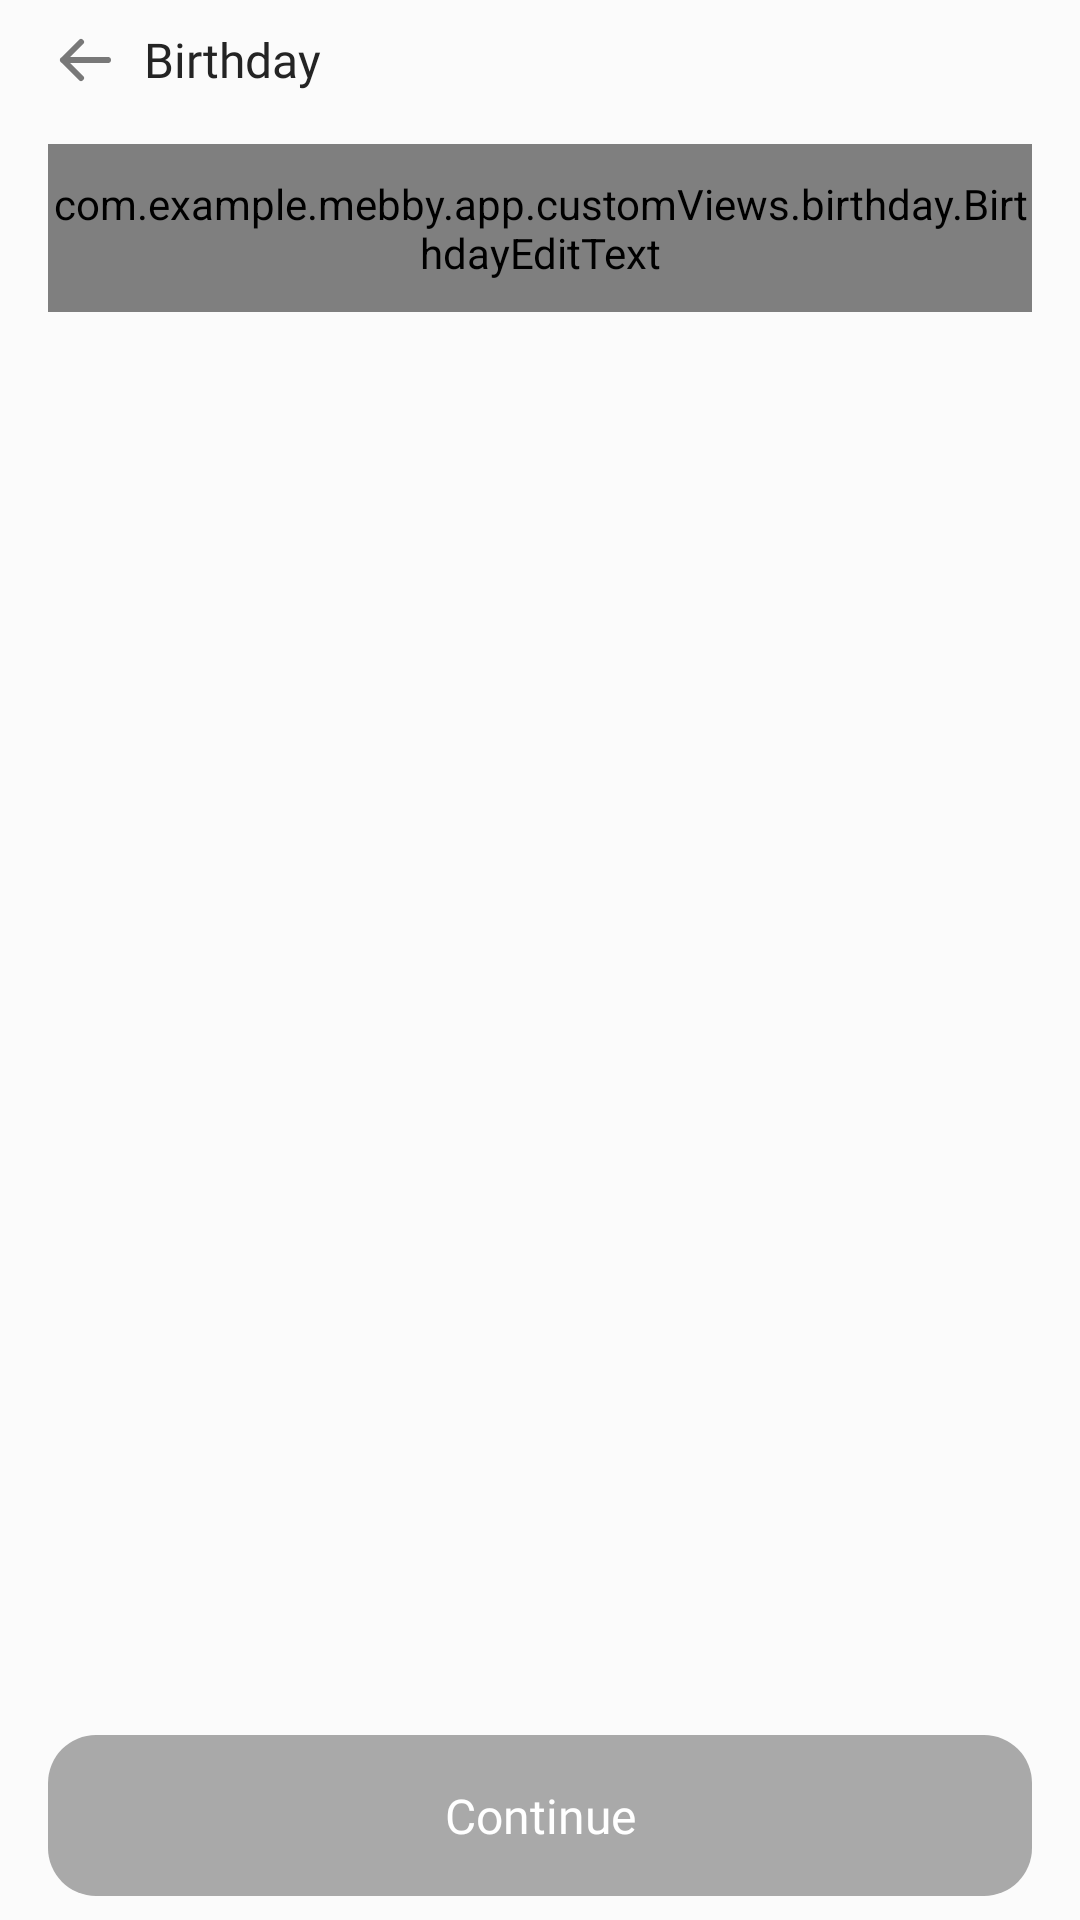

Named icons in this screenshot (1080×1920) and their bounding boxes, (x1=x1, y1=y1, x2=x2, y2=y2):
Back: (x1=60, y1=39, x2=111, y2=81)
